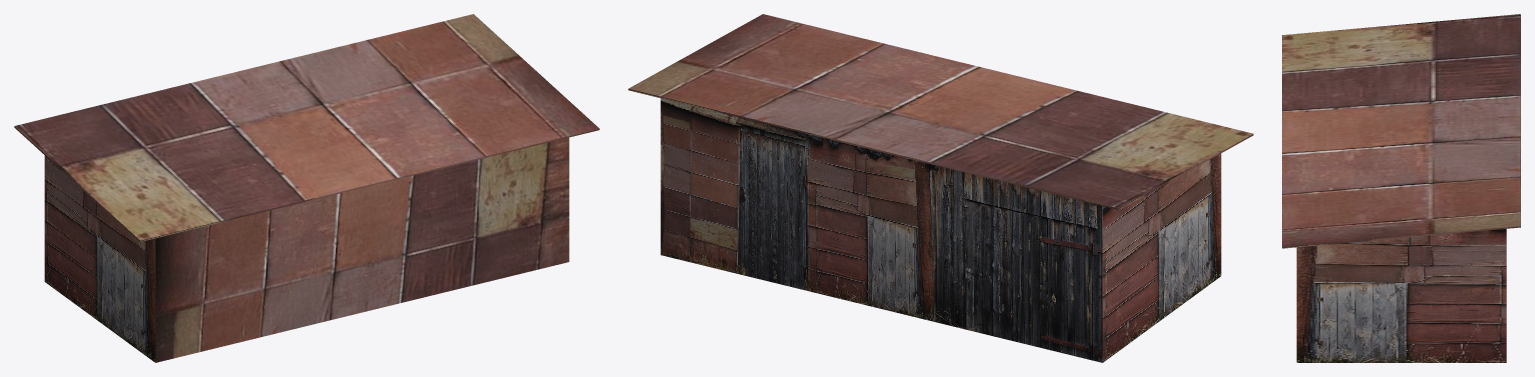
Rendered from Barn.fbx.
3 renders of one model, left to right at view 1: azimuth 30°, elevation 25°; view 2: azimuth 150°, elevation 25°; view 3: azimuth 270°, elevation 25°, orthographic. The views are drawn at different scales.
Visible parts, largest first — view 1: Box01; view 2: Box01; view 3: Box01.
Boxes of the visible parts, x1,y1,x2,y2 form: Box01: (14,14,599,362); Box01: (628,14,1253,362); Box01: (1282,14,1520,362).
Bounding box in the file's own units: 6.87 × 2.22 × 3.27.
Materials: 1 (1 with a texture image).
